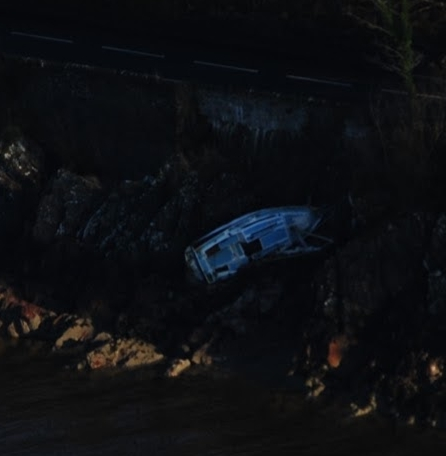boat_cabin: (176, 194, 333, 288)
